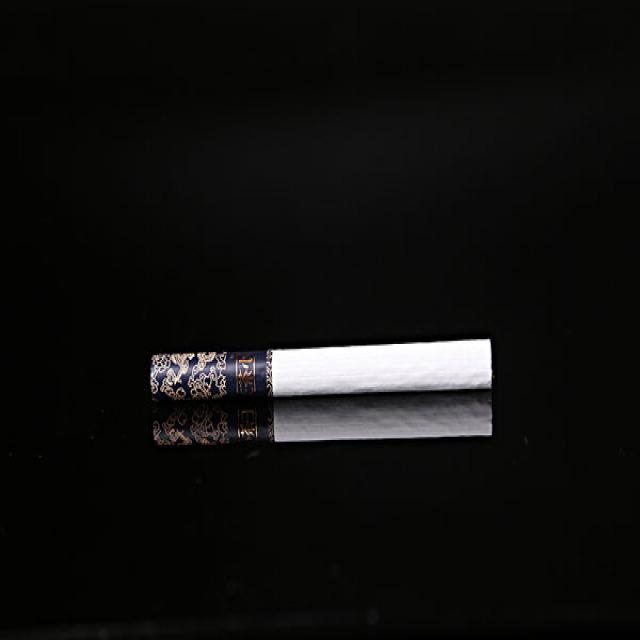smoking: (148, 335, 493, 400), (151, 398, 494, 442)
